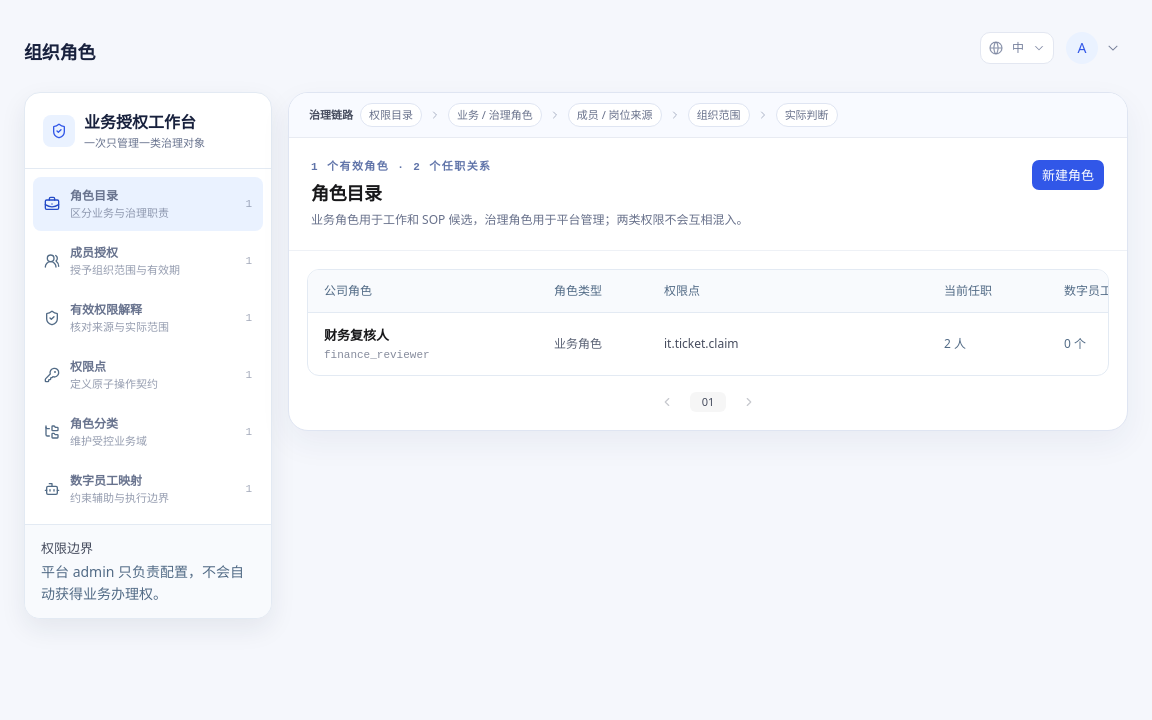
Scenario: 展示结构化成员授权和服务端有效权限解释
Click the link "成员授权 授予组织范围与有效期 1".
click(148, 261)  # box x1=33 y1=234 x2=263 y2=288
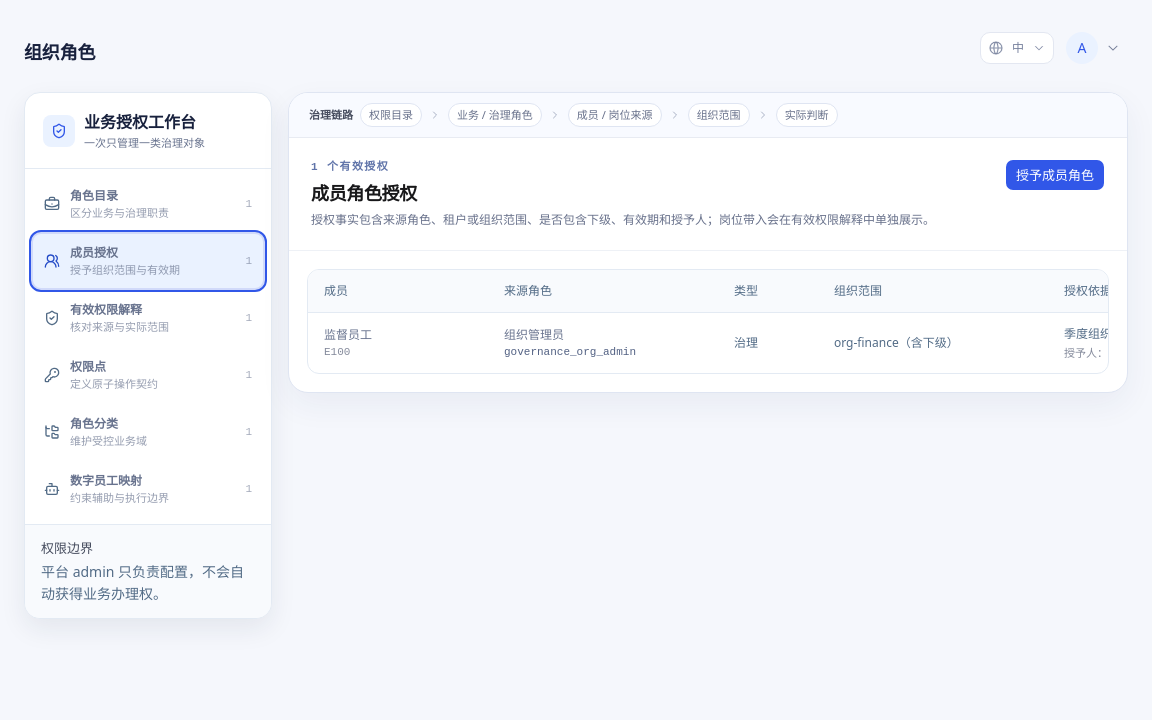
Result: the table named "成员角色授权列表" shows "组织管理员" at x1=504 y1=326 x2=564 y2=343
Result: the table named "成员角色授权列表" shows "含下级" at x1=834 y1=334 x2=959 y2=351
Click the button "授予成员角色".
click(1055, 175)  # box x1=1005 y1=159 x2=1105 y2=191
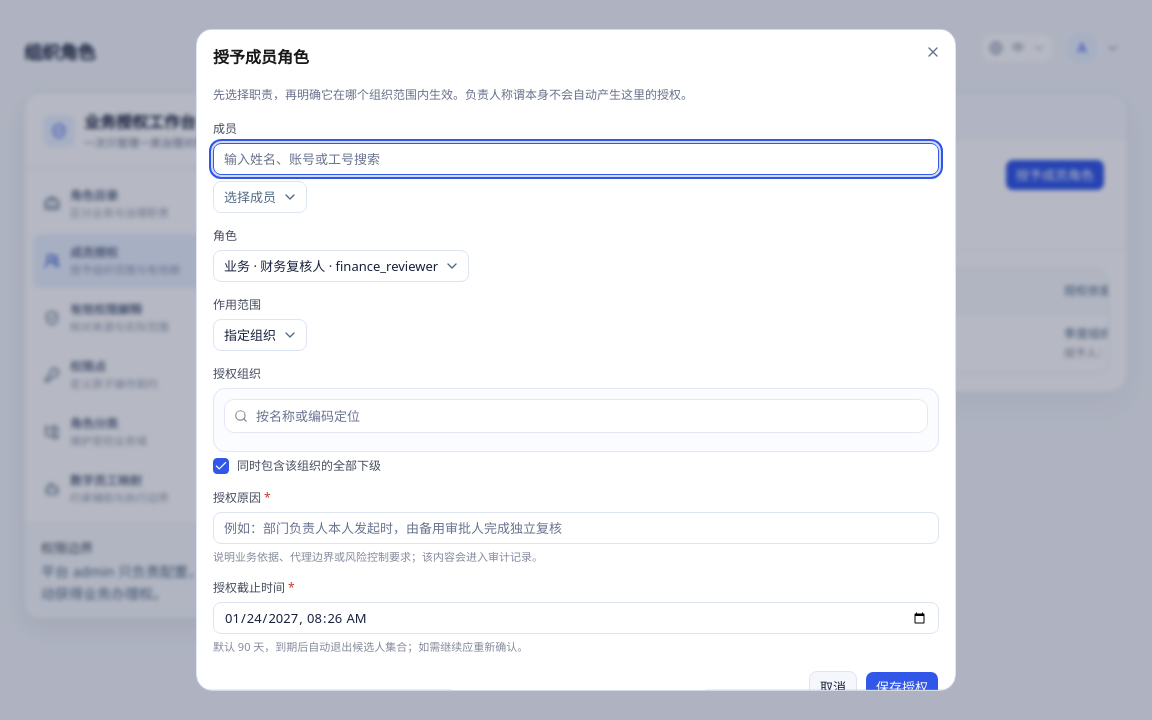
Result: the field named "成员角色授权原因" is shown at x1=213 y1=512 x2=939 y2=544
Click the button "取消".
click(833, 687)  # box x1=809 y1=671 x2=857 y2=703
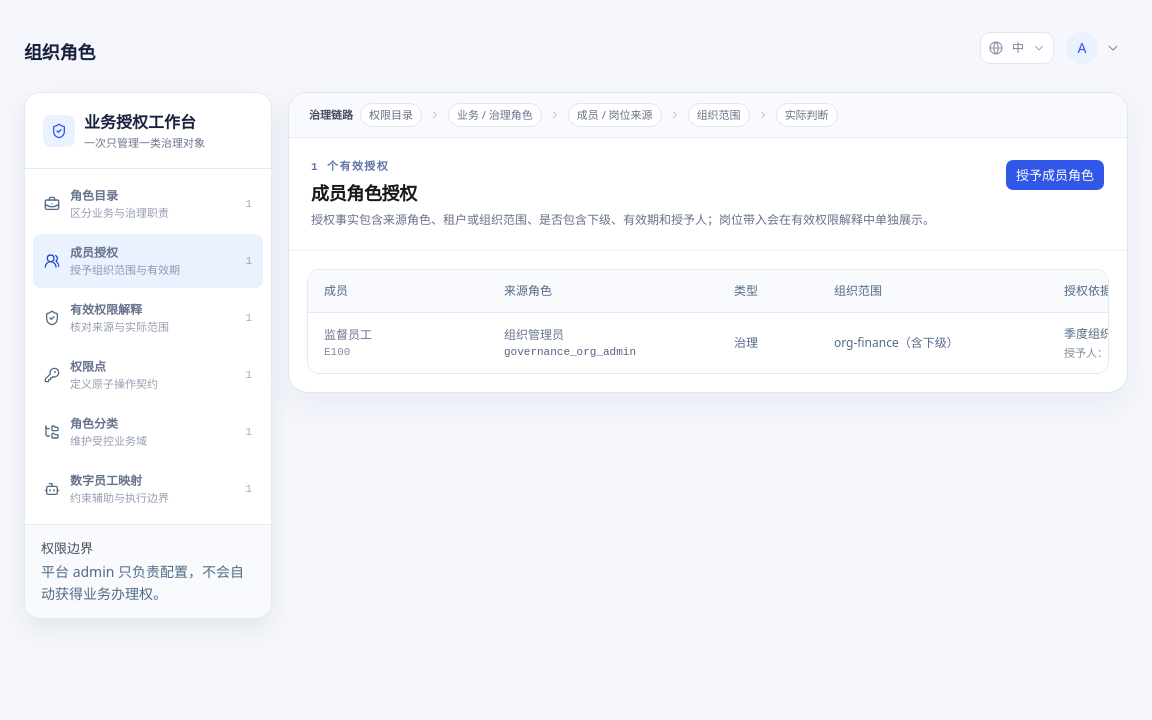
Click the link "有效权限解释 核对来源与实际范围 1".
click(148, 318)  # box x1=33 y1=291 x2=263 y2=345
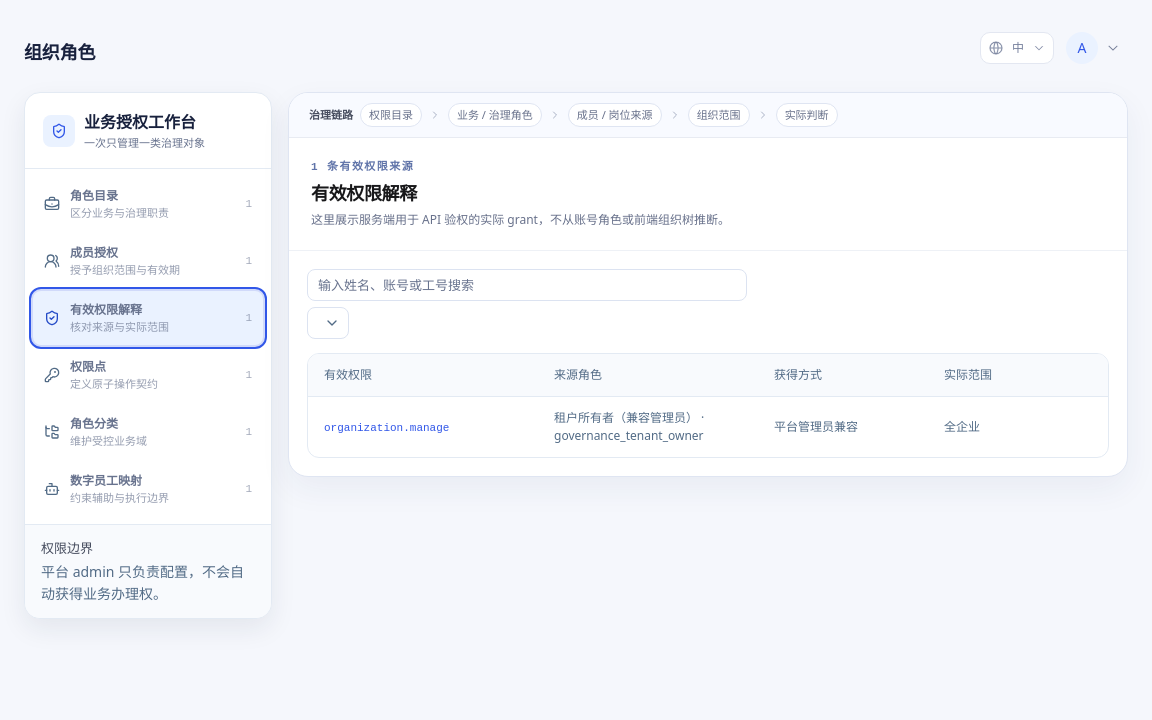
Result: the table named "有效权限解释列表" shows "organization.manage" at x1=324 y1=422 x2=449 y2=434
Result: the table named "有效权限解释列表" shows "平台管理员兼容" at x1=774 y1=418 x2=858 y2=435
